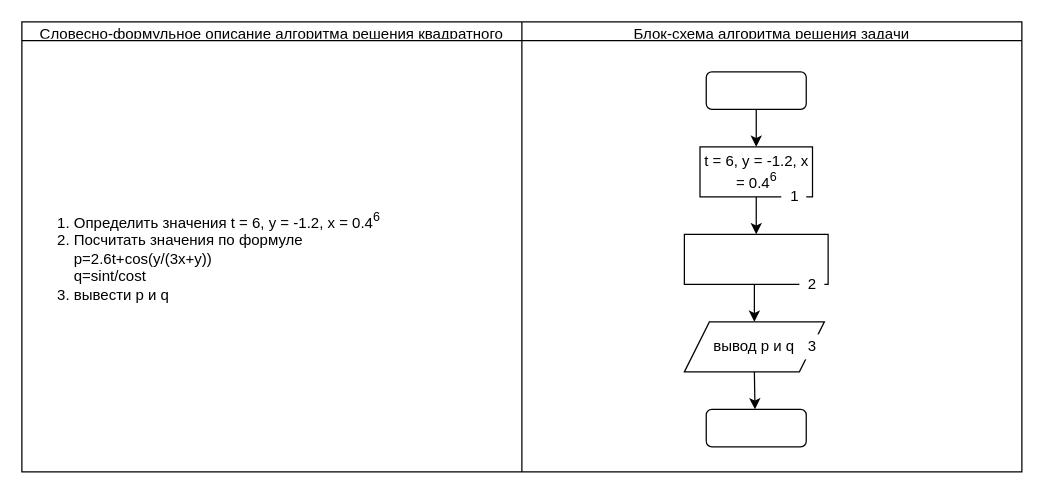
This 1044x494 diagram has some shape labels left out. Here are the shapes that lost their labels. From the top down, the box of each, then its label:
(705, 71, 806, 109): начало
(683, 233, 828, 284): p=2.6t+cos(y/(3x+y)) q=sint/cost
(705, 408, 806, 447): конец
